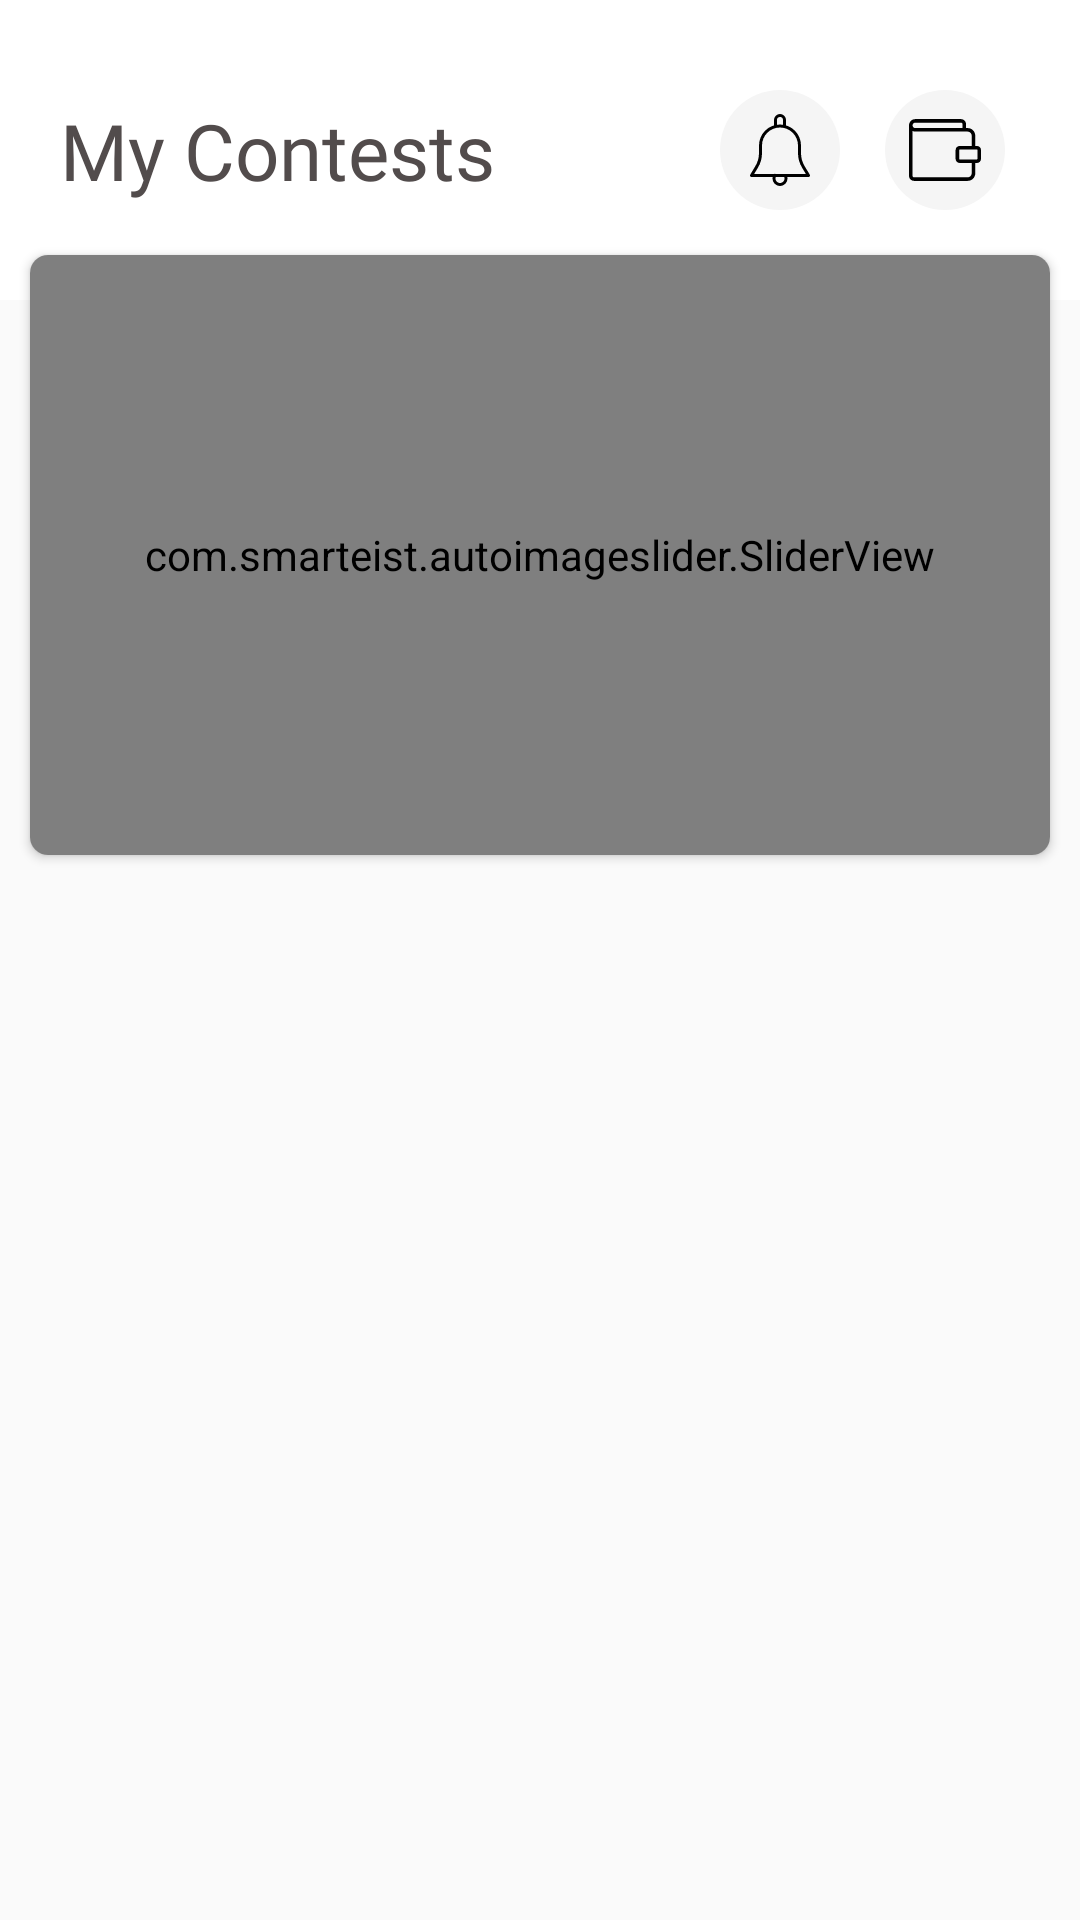

Where to tap for icons on this 1080 × 1920 app screen, as (x,y):
notify: (780,150)
wallet: (945,150)
